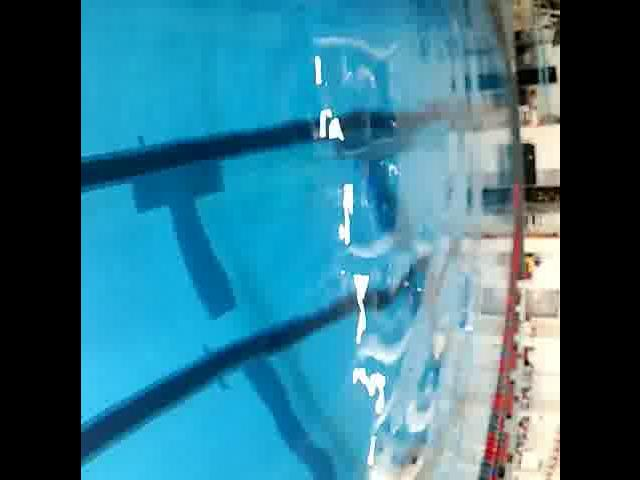Bottle: (452, 256, 488, 346)
